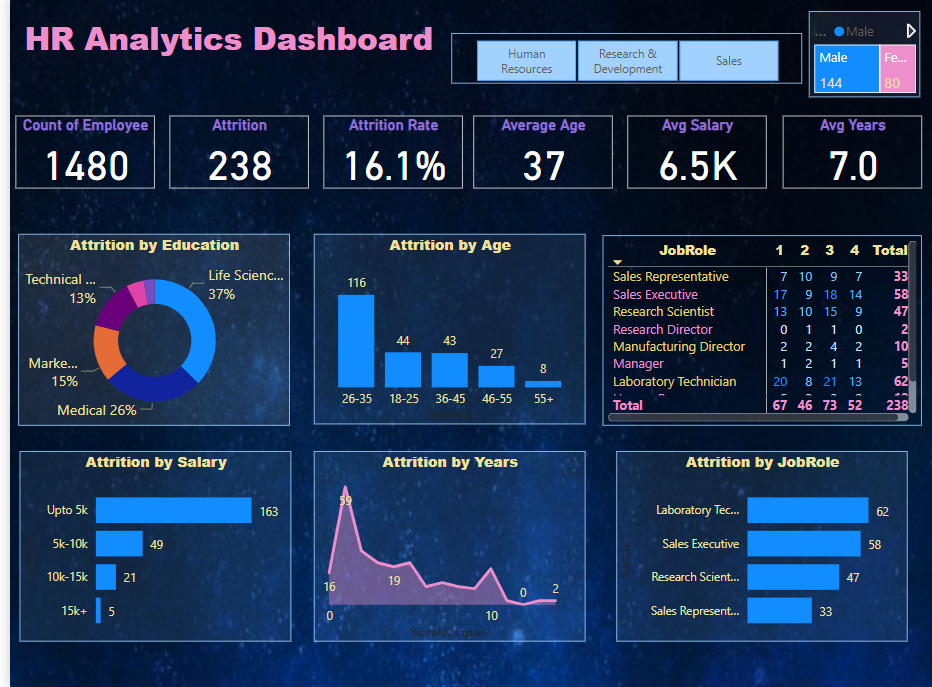

What the dashboard file says about the page in this screenshot:
{"tool":"powerbi","page":{"name":"Page 1","canvas":[960,720],"ordinal":0},"visuals":[{"type":"card","title":"Count of Employee","fields":{"Values":["CountNonNull(HR_Analytics.EmpID)"]},"box":[5.5,123.9,144.4,75.6],"z":0},{"type":"card","title":"Attrition","fields":{"Values":["Sum(HR_Analytics.AttritionCount)"]},"box":[165.7,123.6,144.4,75.6],"z":1000},{"type":"card","title":"Attrition Rate","fields":{"Values":["HR_Analytics.AttritionRate"]},"box":[325.2,123.6,144.4,75.6],"z":2000},{"type":"card","title":"Average Age","fields":{"Values":["Avg(HR_Analytics.Age)"]},"box":[482,123.6,144.4,75.6],"z":3000},{"type":"card","title":"Avg Salary","fields":{"Values":["Avg(HR_Analytics.MonthlyIncome)"]},"box":[641.5,123.6,144.4,75.6],"z":4000},{"type":"card","title":"Avg Years ","fields":{"Values":["Avg(HR_Analytics.YearsAtCompany)"]},"box":[802.4,123.6,144.4,75.6],"z":5000},{"type":"donutChart","title":"Attrition by Education","fields":{"Category":["HR_Analytics.EducationField"],"Y":["Sum(HR_Analytics.AttritionCount)"]},"box":[9.3,246.5,281.9,199.4],"z":6000},{"type":"columnChart","title":"Attrition by Age","fields":{"Y":["Sum(HR_Analytics.AttritionCount)"],"Category":["HR_Analytics.AgeGroup"]},"box":[316.3,247.5,281.9,198],"z":7000},{"type":"pivotTable","fields":{"Rows":["HR_Analytics.JobRole"],"Columns":["HR_Analytics.JobSatisfaction"],"Values":["Sum(HR_Analytics.AttritionCount)"]},"box":[615.7,247.9,331.4,198],"z":8000},{"type":"barChart","title":"Attrition by Salary","fields":{"Category":["HR_Analytics.SalarySlab"],"Y":["Sum(HR_Analytics.AttritionCount)"]},"box":[9.6,473.1,281.9,198],"z":9000},{"type":"barChart","title":"Attrition by JobRole","fields":{"Category":["HR_Analytics.JobRole"],"Y":["Sum(HR_Analytics.AttritionCount)"]},"box":[629.9,473.1,302.6,198],"z":10000},{"type":"areaChart","title":"Attrition by Years","fields":{"Category":["HR_Analytics.YearsAtCompany"],"Y":["Sum(HR_Analytics.AttritionCount)"]},"box":[316.3,473.1,281.9,198],"z":11000},{"type":"treemap","title":"Attrition by Age","fields":{"Group":["HR_Analytics.Gender"],"Values":["Sum(HR_Analytics.AttritionCount)"]},"box":[830.7,15.1,115.5,89.4],"z":12000},{"type":"slicer","fields":{"Values":["HR_Analytics.Department"]},"box":[458,38.5,364.4,52.3],"z":13000},{"type":"textbox","box":[9.6,15.1,500.6,75.6],"z":13001}]}

Visuals, with their boxes in screenshot pixels (x1, y1, x2, y2), scaled from the page's 960x720 canvas onto the 932x687 screenshot:
"Count of Employee" card: detection(5, 118, 146, 190)
"Attrition" card: detection(161, 118, 301, 190)
"Attrition Rate" card: detection(316, 118, 456, 190)
"Average Age" card: detection(468, 118, 608, 190)
"Avg Salary" card: detection(623, 118, 763, 190)
"Avg Years " card: detection(779, 118, 919, 190)
"Attrition by Education" donutChart: detection(9, 235, 283, 425)
"Attrition by Age" columnChart: detection(307, 236, 581, 425)
pivotTable - HR_Analytics.JobRole x HR_Analytics.JobSatisfaction: detection(598, 237, 919, 425)
"Attrition by Salary" barChart: detection(9, 451, 283, 640)
"Attrition by JobRole" barChart: detection(612, 451, 905, 640)
"Attrition by Years" areaChart: detection(307, 451, 581, 640)
"Attrition by Age" treemap: detection(806, 14, 919, 100)
slicer - HR_Analytics.Department: detection(445, 37, 798, 87)
textbox: detection(9, 14, 495, 87)
